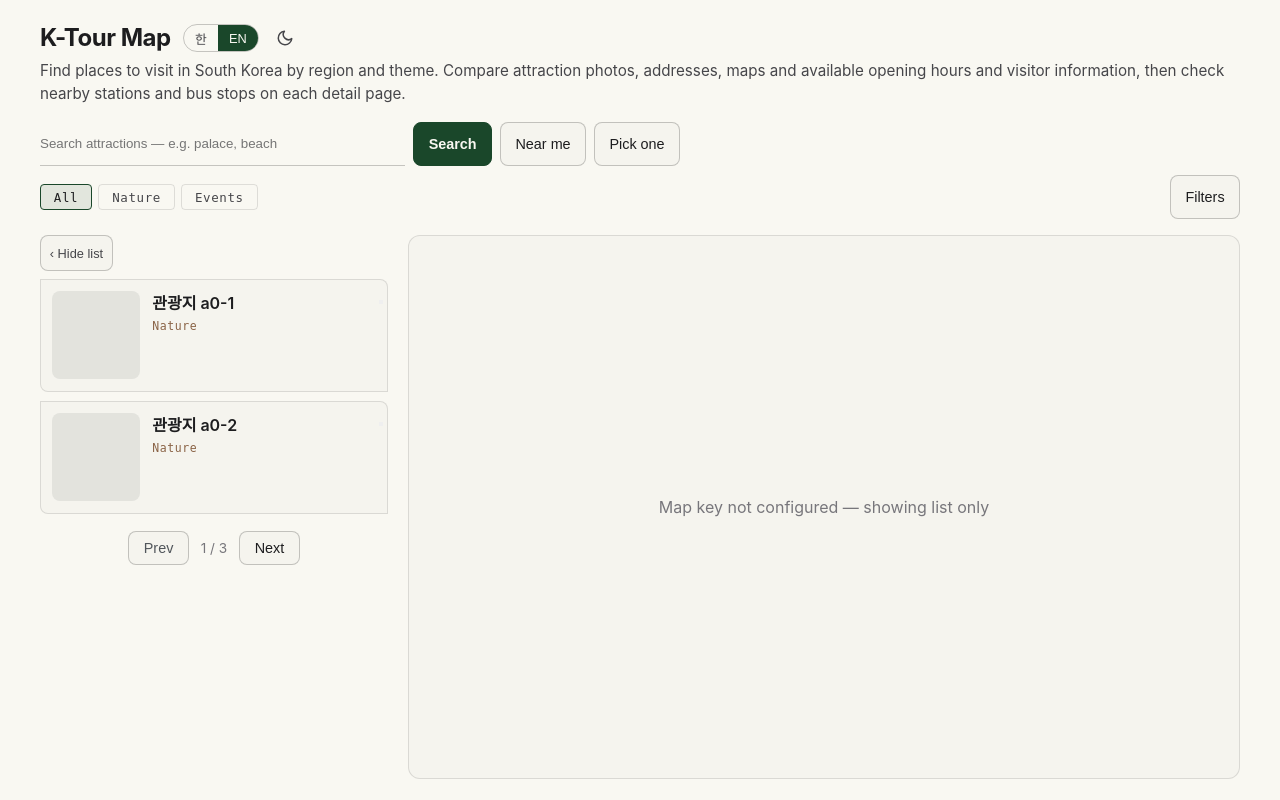
Test: PlacePage 속성 칩 › 영문 화면은 영문 칩·안내 문구를 쓴다
Expected: the heading "관광지 a0-1" is shown, [152,291,234,315]
Step 1. Click the button "Filters" → point(1205, 197), box [1170,175,1240,219]
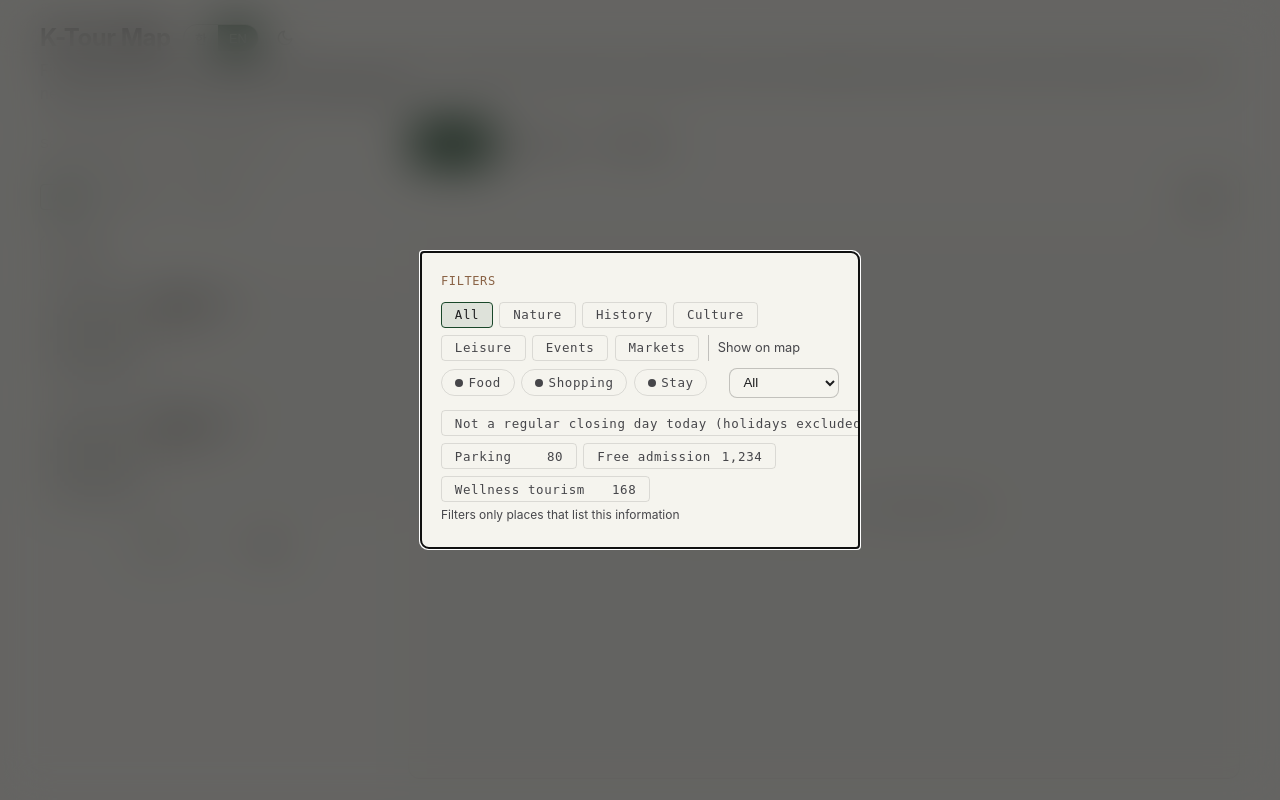
Result: the button "Not a regular closing day today (holidays excluded) 120" is shown at [441,410,860,436]
Result: the text "Filters only places that list this information" is shown at [441,507,680,522]
Result: the button "Wellness tourism 168" is shown at [441,476,650,502]
